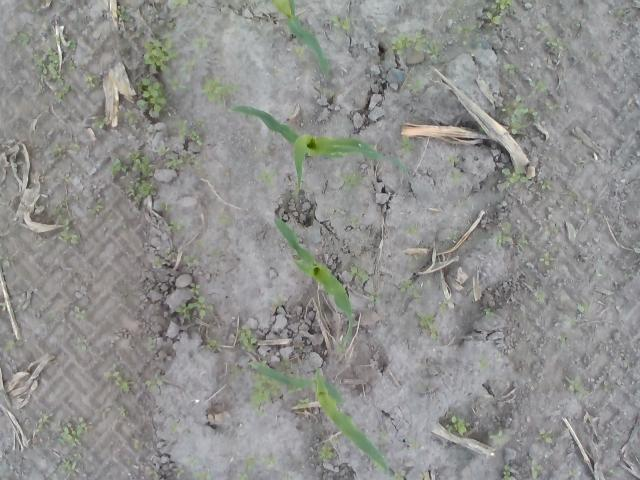Maize: (250, 359, 392, 472), (229, 102, 403, 188), (271, 216, 353, 339), (272, 0, 333, 77)
Weeds: (30, 34, 76, 103), (111, 148, 159, 208), (124, 75, 170, 124), (51, 190, 82, 246), (500, 95, 541, 136), (390, 26, 440, 57), (140, 30, 177, 71), (250, 372, 281, 416), (54, 415, 92, 448), (202, 75, 240, 106), (174, 296, 217, 322), (175, 117, 209, 146), (158, 143, 193, 171), (452, 19, 482, 50), (484, 0, 513, 29), (497, 166, 528, 192), (563, 373, 593, 397), (104, 369, 132, 393), (416, 311, 438, 340), (443, 415, 472, 436), (446, 153, 465, 185), (151, 246, 177, 269), (51, 141, 82, 160), (239, 323, 258, 354), (246, 453, 276, 472), (526, 77, 554, 96), (404, 72, 426, 96), (286, 382, 310, 404), (496, 221, 514, 248), (329, 14, 354, 33), (319, 435, 338, 460), (342, 169, 362, 192), (166, 76, 194, 92), (256, 166, 278, 186), (348, 264, 369, 284), (8, 30, 30, 49), (180, 253, 199, 274), (63, 452, 82, 473), (82, 70, 104, 88), (538, 250, 560, 268), (398, 277, 416, 298), (166, 218, 191, 232), (1, 337, 24, 352), (206, 334, 223, 354), (398, 136, 419, 152), (488, 430, 512, 444), (35, 414, 51, 434), (545, 36, 567, 50), (182, 56, 200, 73), (530, 287, 546, 306), (142, 333, 158, 352), (480, 306, 500, 321), (144, 377, 164, 392), (194, 467, 217, 480), (116, 5, 130, 24), (74, 334, 88, 353), (519, 232, 530, 256), (168, 418, 186, 432), (145, 464, 160, 480), (74, 304, 89, 320), (538, 430, 555, 444), (368, 290, 385, 304), (192, 37, 210, 50), (167, 0, 193, 9), (558, 314, 576, 327), (530, 464, 544, 480), (576, 302, 594, 314), (162, 201, 176, 216), (188, 281, 202, 296), (438, 302, 451, 318), (270, 294, 288, 305), (96, 113, 108, 129), (502, 63, 520, 73), (346, 215, 362, 226), (502, 463, 512, 480), (165, 17, 178, 30), (539, 178, 553, 190), (403, 224, 417, 236), (95, 198, 105, 214), (536, 22, 552, 32), (558, 334, 568, 350), (624, 270, 640, 280), (293, 46, 305, 59), (172, 466, 185, 478), (116, 406, 130, 417), (392, 469, 406, 480), (278, 356, 290, 368), (480, 358, 492, 370), (0, 298, 9, 314), (290, 184, 300, 198), (607, 468, 624, 476), (46, 312, 58, 322), (228, 366, 240, 376), (132, 437, 141, 450), (336, 343, 346, 354), (448, 231, 458, 241), (567, 191, 578, 200), (238, 472, 250, 480), (592, 272, 608, 278), (616, 9, 626, 18), (193, 240, 204, 248), (409, 440, 417, 449), (568, 468, 576, 476), (0, 255, 5, 264)
